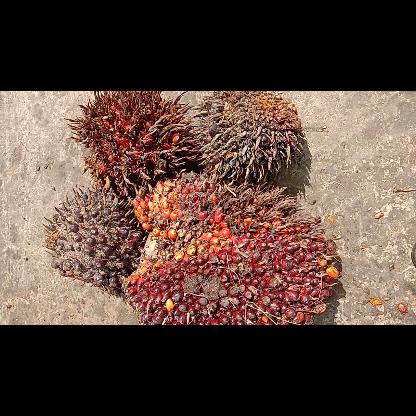Kurang masak: (45, 186, 143, 296)
TBS abnormal: (193, 92, 304, 184)
TBS masak: (124, 174, 340, 324)
Terlalu masak: (65, 92, 200, 192)
